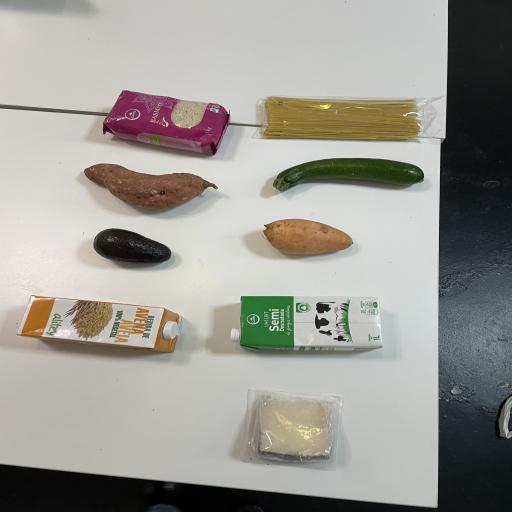avocado: (84, 225, 178, 269)
courgette: (267, 149, 426, 195)
cured_goat_cheese: (249, 385, 343, 468)
milk: (228, 289, 386, 360)
oat_milk: (16, 287, 186, 358)
rice: (101, 90, 234, 156)
spaghetti: (262, 93, 430, 145)
sweet_potato: (78, 161, 216, 219), (259, 210, 367, 262)
